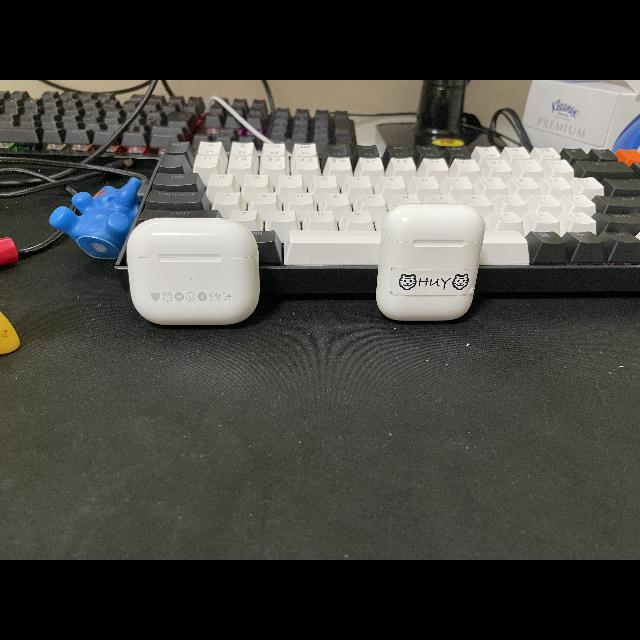airpod2: (376, 196, 486, 324)
airpod3: (124, 214, 266, 328)
